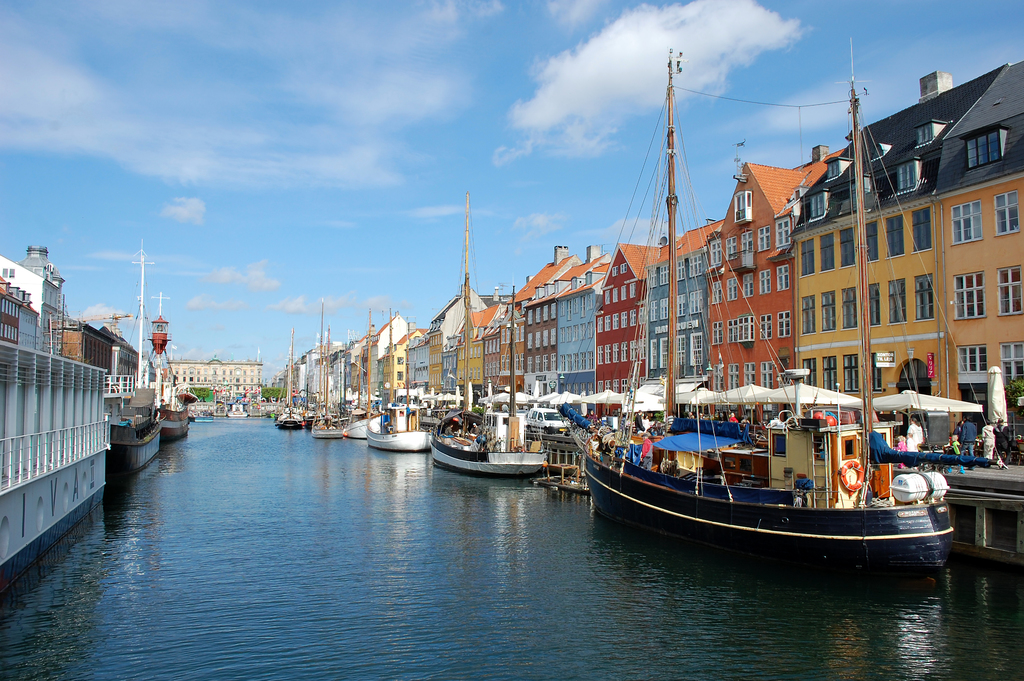boat: (574, 29, 965, 587), (423, 178, 564, 500), (360, 299, 434, 464), (305, 320, 351, 446), (271, 324, 307, 440)
